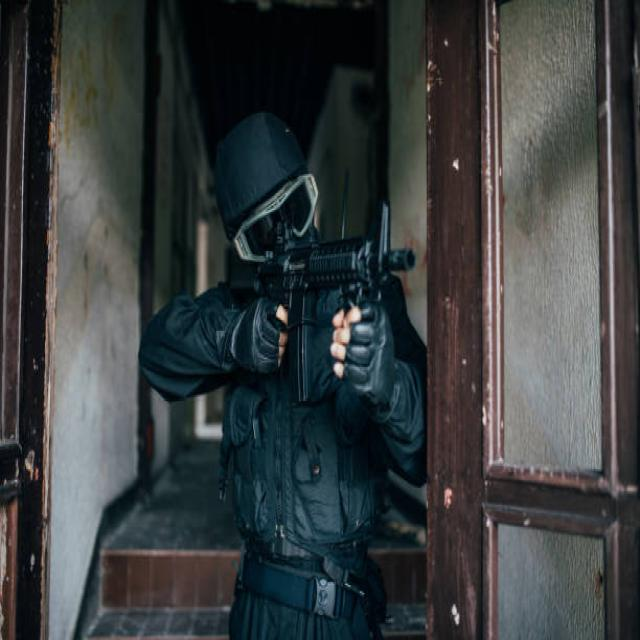soldier: (138, 109, 428, 640)
